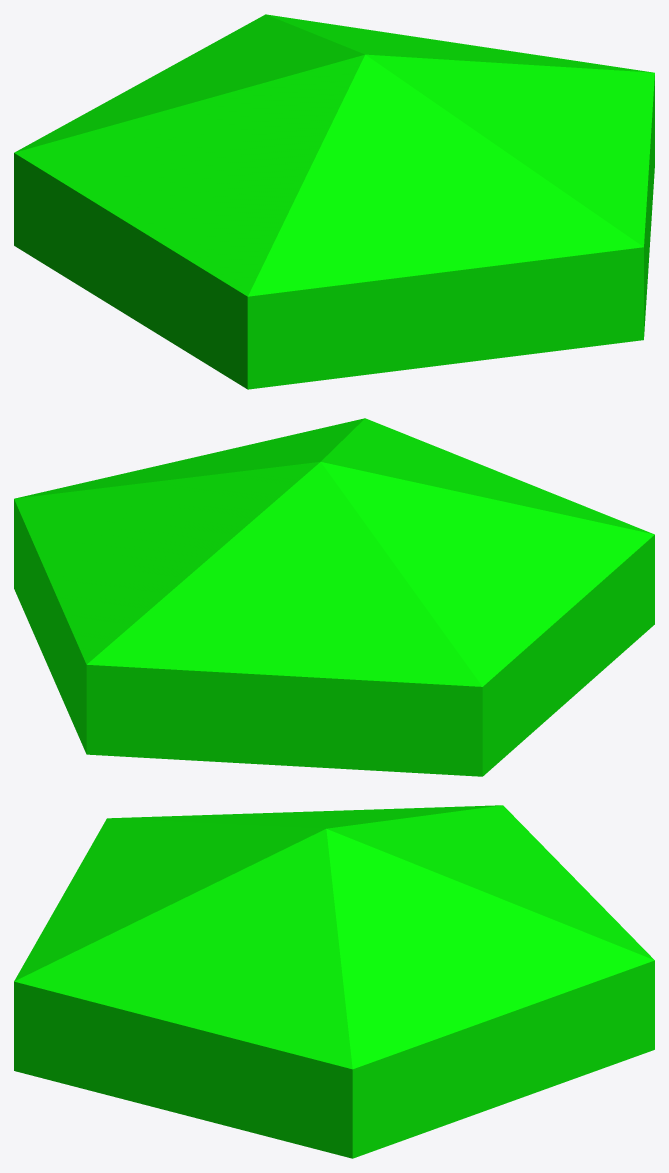
The model's file is SM_Button_Metalic_Fantasy.fbx.
The picture shows the model from 3 angles, top to bottom: view 1: azimuth 30°, elevation 25°; view 2: azimuth 150°, elevation 25°; view 3: azimuth 270°, elevation 25°; orthographic projection. The views are drawn at different scales.
Visible parts, largest first — view 1: button-metalic-fantasy; view 2: button-metalic-fantasy; view 3: button-metalic-fantasy.
Part boxes in pixels (bbox=[...]): button-metalic-fantasy: bbox=[14, 14, 654, 389]; button-metalic-fantasy: bbox=[14, 418, 654, 776]; button-metalic-fantasy: bbox=[14, 805, 654, 1158].
Size of the model in its own units: 0.0327 by 0.0152 by 0.0336.
